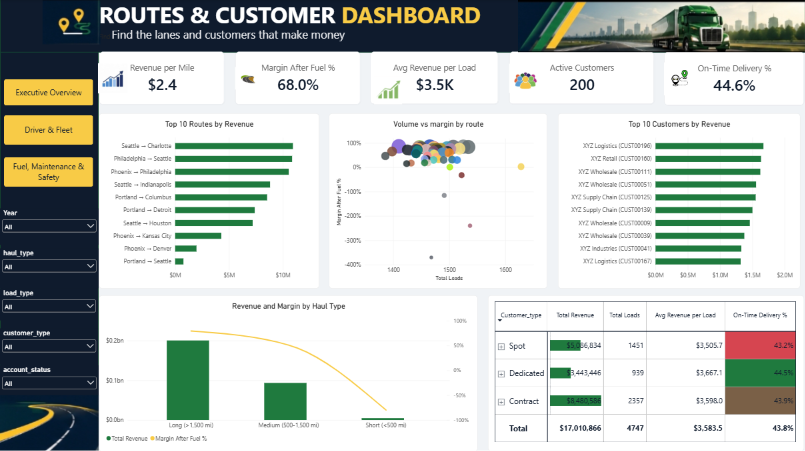

The page's visual inventory and layout, read from the dashboard file:
{"tool":"powerbi","page":{"name":"Routes & Customers","canvas":[1920,1080],"ordinal":2},"visuals":[{"type":"shape","box":[0,0,235.2,1080.9],"z":0},{"type":"shape","box":[0,0,1920.7,126.5],"z":1000},{"type":"textbox","box":[235.2,0,1686.5,127.6],"z":2000},{"type":"slicer","fields":{"Values":["Date.Year"]},"box":[0,498.7,235.2,87.6],"z":3000},{"type":"slicer","fields":{"Values":["Routes.haul_type"]},"box":[0,594.1,235.2,95.1],"z":4000},{"type":"slicer","fields":{"Values":["Trips.load_type"]},"box":[0,689.5,233.8,76.3],"z":5000},{"type":"slicer","fields":{"Values":["Customers.customer_type"]},"box":[0,785,234,87.4],"z":6000},{"type":"slicer","fields":{"Values":["Customers.account_status"]},"box":[0,873.2,235.2,85.1],"z":7000},{"type":"barChart","title":"Top 10 Routes by Revenue","fields":{"Category":["Routes.route_name"],"Y":["_Measures.Total Revenue"]},"box":[235.2,272.9,525.5,417.9],"z":8000},{"type":"scatterChart","title":"Volume vs margin by route","fields":{"Category":["Routes.route_name"],"Size":["_Measures.Total Revenue"],"X":["_Measures.Total Loads"],"Y":["_Measures.Margin After Fuel %"]},"box":[785.4,272.7,520.9,418.1],"z":9000},{"type":"lineClusteredColumnComboChart","title":"Revenue and Margin by Haul Type","fields":{"Category":["Routes.haul_type"],"Y":["_Measures.Total Revenue"],"Y2":["_Measures.Margin After Fuel %"]},"box":[235.2,707.2,903.3,372.8],"z":10000},{"type":"clusteredBarChart","title":"Top 10 Customers by Revenue","fields":{"Category":["Customers.customer_label"],"Y":["_Measures.Total Revenue"]},"box":[1331.2,272.9,578,417.9],"z":11000},{"type":"pivotTable","title":"Customer Service Levels","fields":{"Rows":["Customers.customer_type","Customers.customer_label"],"Values":["_Measures.Total Revenue","_Measures.Total Loads","_Measures.Avg Revenue per Load","_Measures.On-Time Delivery %"]},"box":[1164.3,706.2,753.9,372.2],"z":12000},{"type":"cardVisual","fields":{"Data":["_Measures.Avg Revenue per Load"]},"box":[883.9,125.1,307.8,127.6],"z":14000},{"type":"cardVisual","fields":{"Data":["_Measures.Active Customers"]},"box":[1215.1,125.1,347.8,127.6],"z":15000},{"type":"cardVisual","fields":{"Data":["_Measures.On-Time Delivery %"]},"box":[1584.7,125.1,335.3,130.1],"z":16000},{"type":"cardVisual","fields":{"Data":["_Measures.Revenue per Mile"]},"box":[235.2,125.1,300.9,128.6],"z":17000},{"type":"cardVisual","fields":{"Data":["_Measures.Margin After Fuel %"]},"box":[559.5,125.1,300.9,128.6],"z":18000},{"type":"actionButton","box":[10,190.2,212.7,62.6],"z":19000},{"type":"actionButton","title":"Driver & Fleet","box":[10,277.7,212.7,70.1],"z":20000},{"type":"actionButton","box":[10,377.8,212.7,70.1],"z":21000},{"type":"textbox","box":[235.2,65.1,903.3,42.5],"z":22000},{"type":"image","box":[9.5,0,322.1,107.4],"z":23000},{"type":"image","box":[0,942.4,236.2,138.4],"z":24000},{"type":"image","box":[1235.9,0,684.8,126.5],"z":25000},{"type":"image","box":[1214.4,126.5,78.7,124.1],"z":25001},{"type":"image","box":[1584.2,126.5,78.7,126.5],"z":25002},{"type":"image","box":[233.8,126.5,71.6,124.1],"z":25003},{"type":"image","box":[560.7,126.5,64.4,124.1],"z":25004},{"type":"image","box":[889.9,183.7,71.6,66.8],"z":25005}]}

Visuals, with their boxes in screenshot pixels (x1, y1, x2, y2), scaled from the page's 1920x1080 canvas onto the 805x451 screenshot:
shape: 0, 0, 99, 450
shape: 0, 0, 804, 53
textbox: 99, 0, 804, 53
slicer - Date.Year: 0, 208, 99, 245
slicer - Routes.haul_type: 0, 248, 99, 288
slicer - Trips.load_type: 0, 288, 98, 320
slicer - Customers.customer_type: 0, 328, 98, 364
slicer - Customers.account_status: 0, 365, 99, 400
"Top 10 Routes by Revenue" barChart: 99, 114, 319, 288
"Volume vs margin by route" scatterChart: 329, 114, 548, 288
"Revenue and Margin by Haul Type" lineClusteredColumnComboChart: 99, 295, 477, 450
"Top 10 Customers by Revenue" clusteredBarChart: 558, 114, 800, 288
"Customer Service Levels" pivotTable: 488, 295, 804, 450
cardVisual - _Measures.Avg Revenue per Load: 371, 52, 500, 106
cardVisual - _Measures.Active Customers: 509, 52, 655, 106
cardVisual - _Measures.On-Time Delivery %: 664, 52, 804, 107
cardVisual - _Measures.Revenue per Mile: 99, 52, 225, 106
cardVisual - _Measures.Margin After Fuel %: 235, 52, 361, 106
actionButton: 4, 79, 93, 106
"Driver & Fleet" actionButton: 4, 116, 93, 145
actionButton: 4, 158, 93, 187
textbox: 99, 27, 477, 45
image: 4, 0, 139, 45
image: 0, 394, 99, 450
image: 518, 0, 804, 53
image: 509, 53, 542, 105
image: 664, 53, 697, 106
image: 98, 53, 128, 105
image: 235, 53, 262, 105
image: 373, 77, 403, 105
